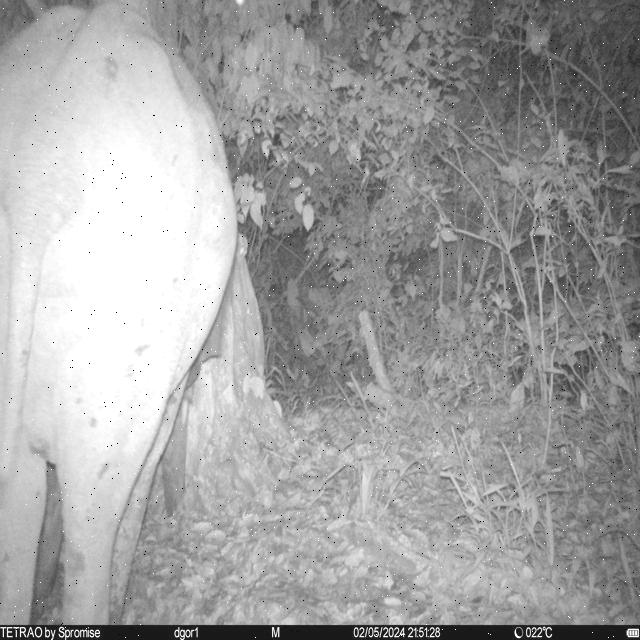elephant: (0, 0, 238, 624)
tusk: (182, 396, 192, 432)
